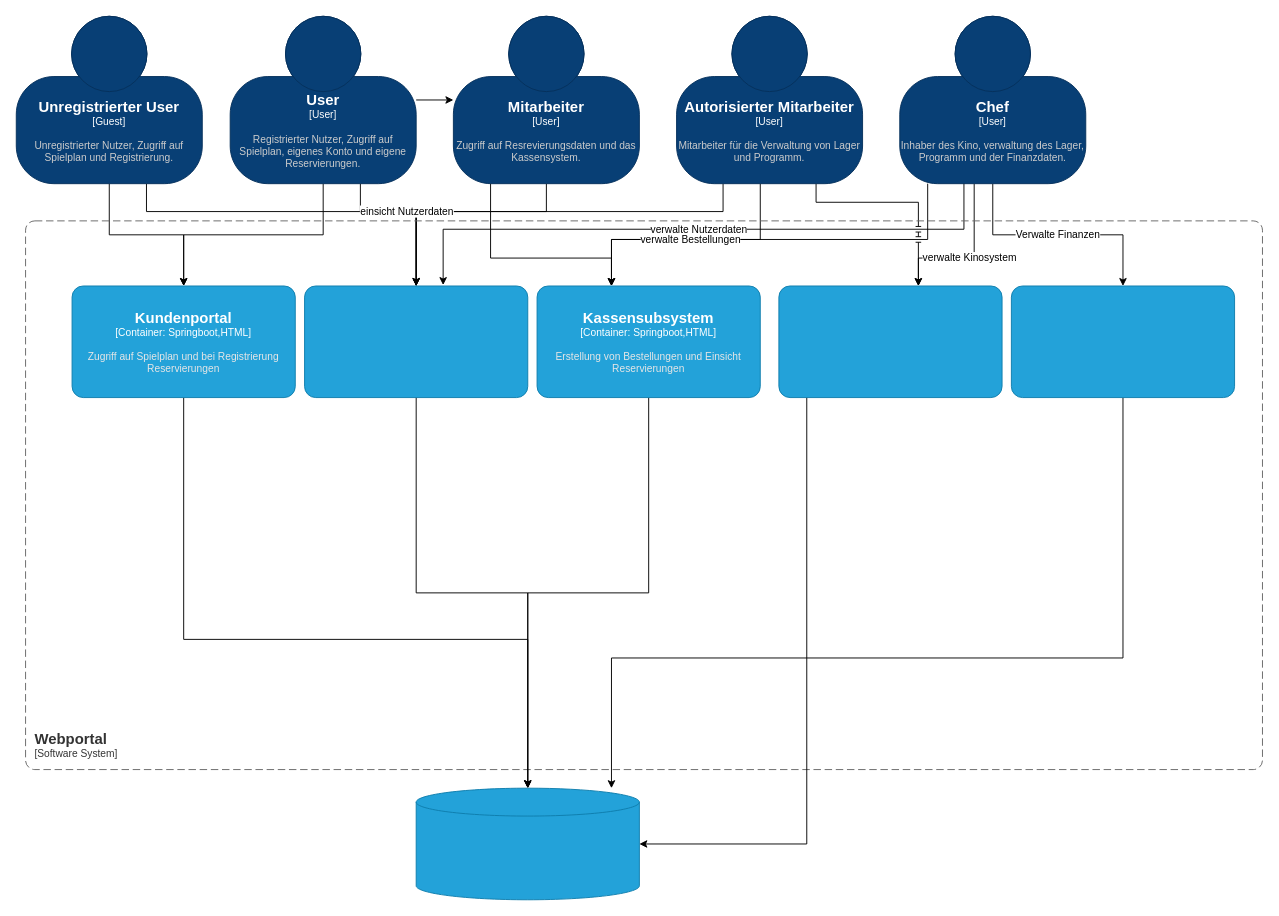
The diagram is 1279 pixels wide and 916 high, and some of its shapes have lost their labels. The centre of each missing label's shape, as x and y in pixels:
Datenhaltung [Container: Database] Haltung aller Daten.: the point at 527,843
Finanzsystem [Container: Springboot,HTML] Kontrolliert Umsatz und Bilanzen: the point at 1122,341
LogIn-System [Container: Springboot,HTML] Verwaltug der Anmeldedaten von Nutzer: the point at 416,341
Verwaltungssystem [Container: Springboot,HTML] Kontrolliert Lager, Preise und: the point at 890,341
